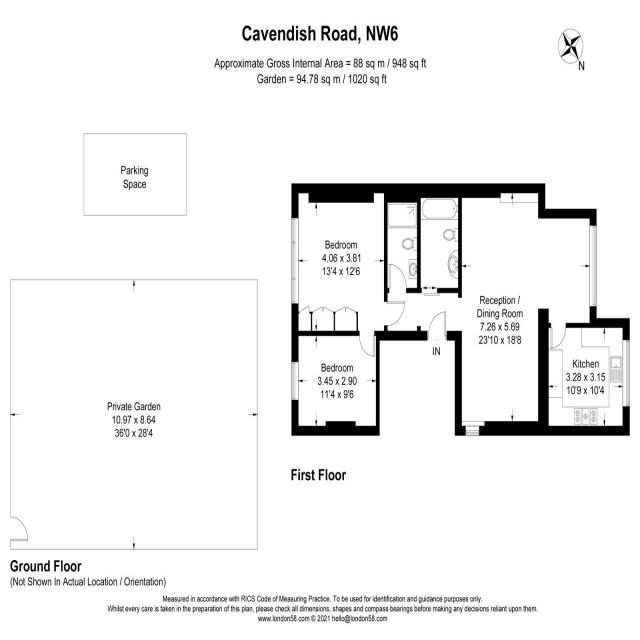DOOR: (426, 310, 447, 341), (384, 300, 406, 326), (388, 263, 407, 293), (550, 323, 567, 350), (359, 331, 375, 358)
ROOM: (455, 183, 597, 436), (291, 183, 406, 358), (538, 318, 630, 437), (291, 330, 380, 436)
WINDOW: (589, 224, 598, 309), (291, 217, 299, 305), (622, 339, 630, 408), (291, 361, 299, 401), (464, 425, 480, 437)
